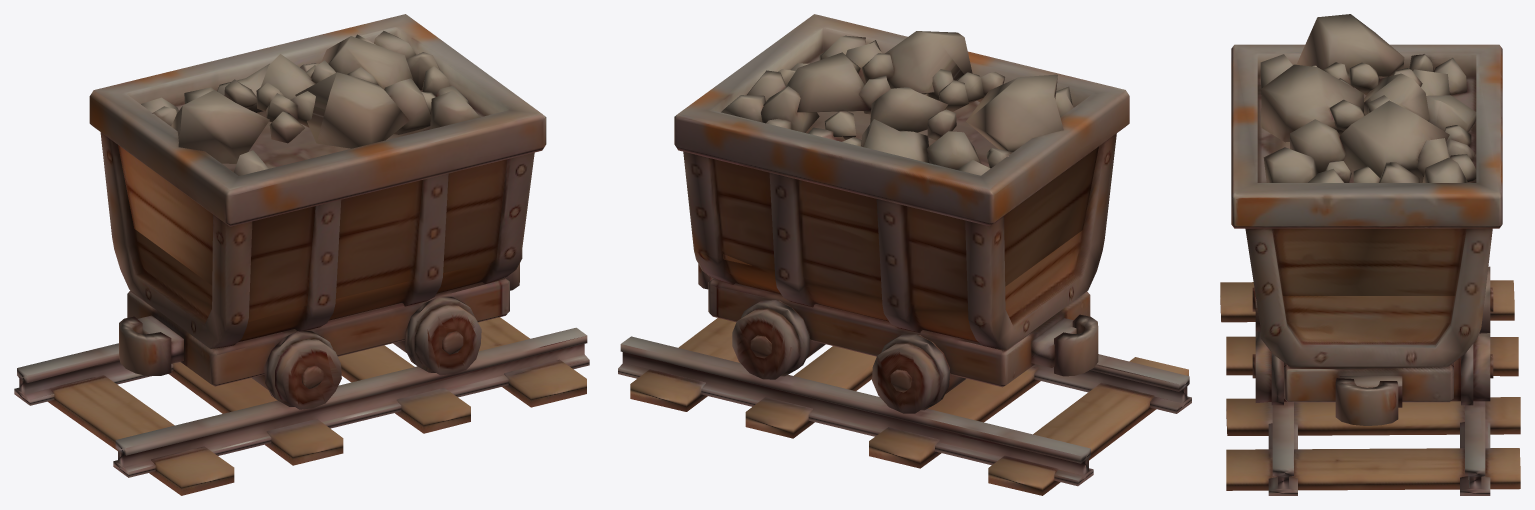
The model's file is map_minecart_tripo.glb.
3 renders of one model, left to right at view 1: azimuth 30°, elevation 25°; view 2: azimuth 150°, elevation 25°; view 3: azimuth 270°, elevation 25°, orthographic. The views are drawn at different scales.
Visible parts, largest first — view 1: tripo_node_c3d3df2d-8ad2-49b7-81fa-648dbc8bdfc7; view 2: tripo_node_c3d3df2d-8ad2-49b7-81fa-648dbc8bdfc7; view 3: tripo_node_c3d3df2d-8ad2-49b7-81fa-648dbc8bdfc7.
Boxes of the visible parts, bbox=[...] form: tripo_node_c3d3df2d-8ad2-49b7-81fa-648dbc8bdfc7: bbox=[14, 14, 589, 495]; tripo_node_c3d3df2d-8ad2-49b7-81fa-648dbc8bdfc7: bbox=[618, 14, 1191, 495]; tripo_node_c3d3df2d-8ad2-49b7-81fa-648dbc8bdfc7: bbox=[1220, 14, 1520, 495].
Size of the model in its own units: 0.998 by 0.6973 by 0.5801.
Materials: 1 (1 with a texture image).
